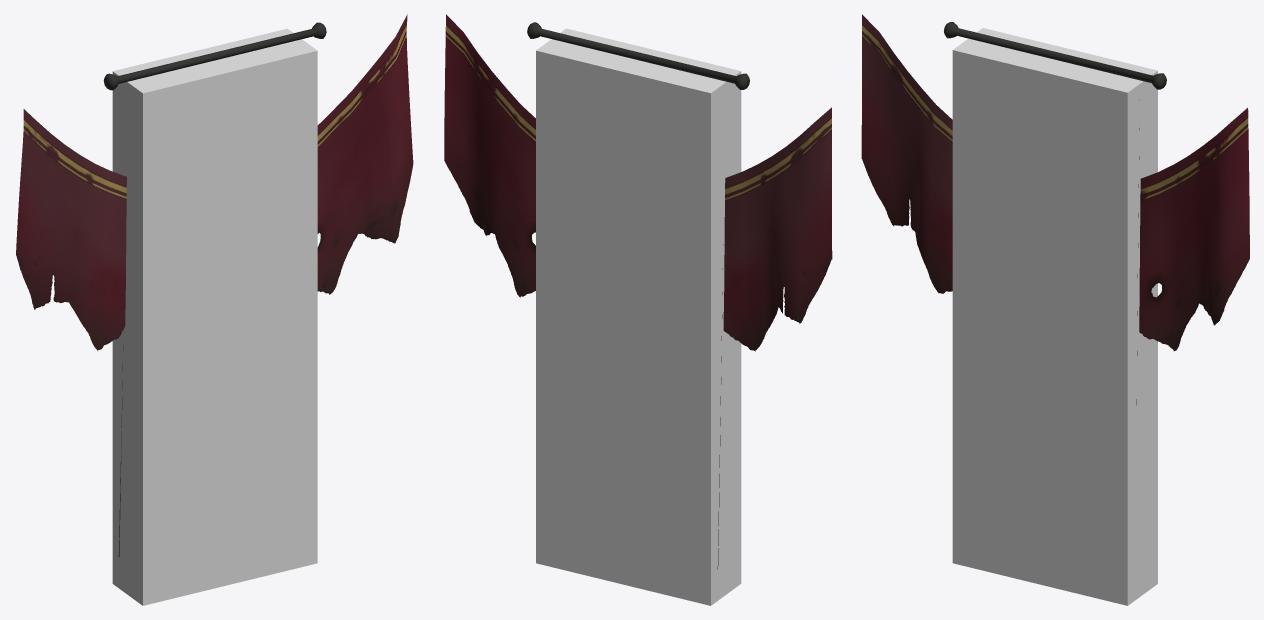
File: banners.webp.glb
3 views of the same model, side by side, from view 1: azimuth 30°, elevation 25°; view 2: azimuth 150°, elevation 25°; view 3: azimuth 330°, elevation 25° (orthographic).
Parts seen in each view (by area): view 1: COL, BANNER_swag, ROD; view 2: COL, BANNER_swag, ROD; view 3: COL, BANNER_swag, ROD.
Part boxes in pixels (<box>): COL: <box>112,28,317,605</box>; BANNER_swag: <box>16,14,413,350</box>; ROD: <box>103,22,326,90</box>; COL: <box>536,28,741,605</box>; BANNER_swag: <box>444,14,832,351</box>; ROD: <box>527,22,749,89</box>; COL: <box>952,28,1157,605</box>; BANNER_swag: <box>861,14,1249,351</box>; ROD: <box>944,22,1166,89</box>.
Size of the model in its own units: 2.26 by 2.87 by 0.3001.
2 materials, 1 textured.
